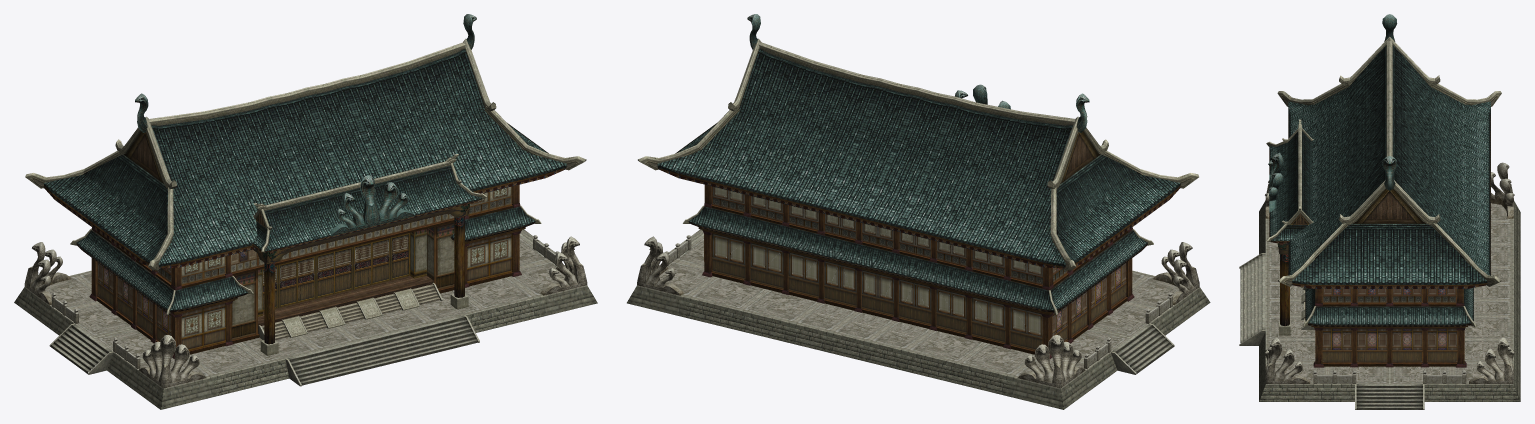
File: gls_a_02.glb
3 renders of one model, left to right at view 1: azimuth 30°, elevation 25°; view 2: azimuth 150°, elevation 25°; view 3: azimuth 270°, elevation 25°, orthographic. The views are drawn at different scales.
Visible parts, largest first — view 1: gls_A_02, gls_A_02_01; view 2: gls_A_02, gls_A_02_01; view 3: gls_A_02, gls_A_02_01.
Part boxes in pixels (x1=…): gls_A_02: x1=14, y1=38, x2=597, y2=409; gls_A_02_01: x1=24, y1=14, x2=587, y2=388; gls_A_02: x1=627, y1=38, x2=1210, y2=409; gls_A_02_01: x1=637, y1=14, x2=1199, y2=388; gls_A_02: x1=1239, y1=36, x2=1520, y2=409; gls_A_02_01: x1=1264, y1=14, x2=1514, y2=383.
Bounding box in the file's own units: 32.75 × 16.46 × 18.88.
6 materials, 6 textured.
